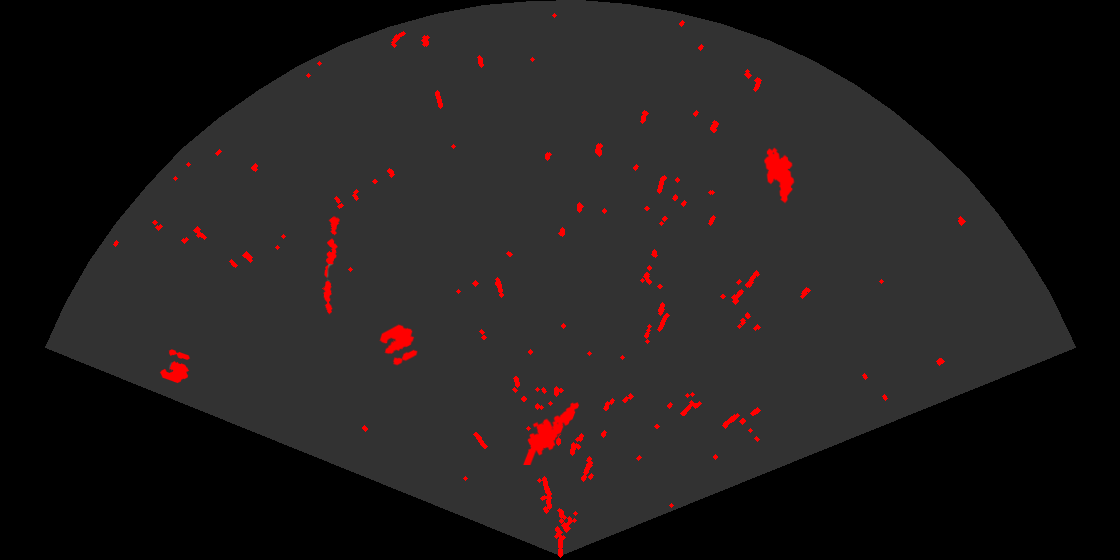AUV: (762, 146, 796, 205)
ball: (378, 323, 419, 367), (158, 348, 191, 385)
chain: (322, 214, 341, 315)
frogman: (521, 401, 581, 465)
